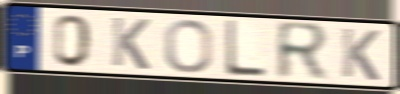0: (52, 13, 93, 68)
K: (109, 15, 152, 72), (339, 26, 382, 83)
L: (224, 18, 268, 79)
O: (163, 18, 215, 75)
R: (274, 19, 332, 83)
